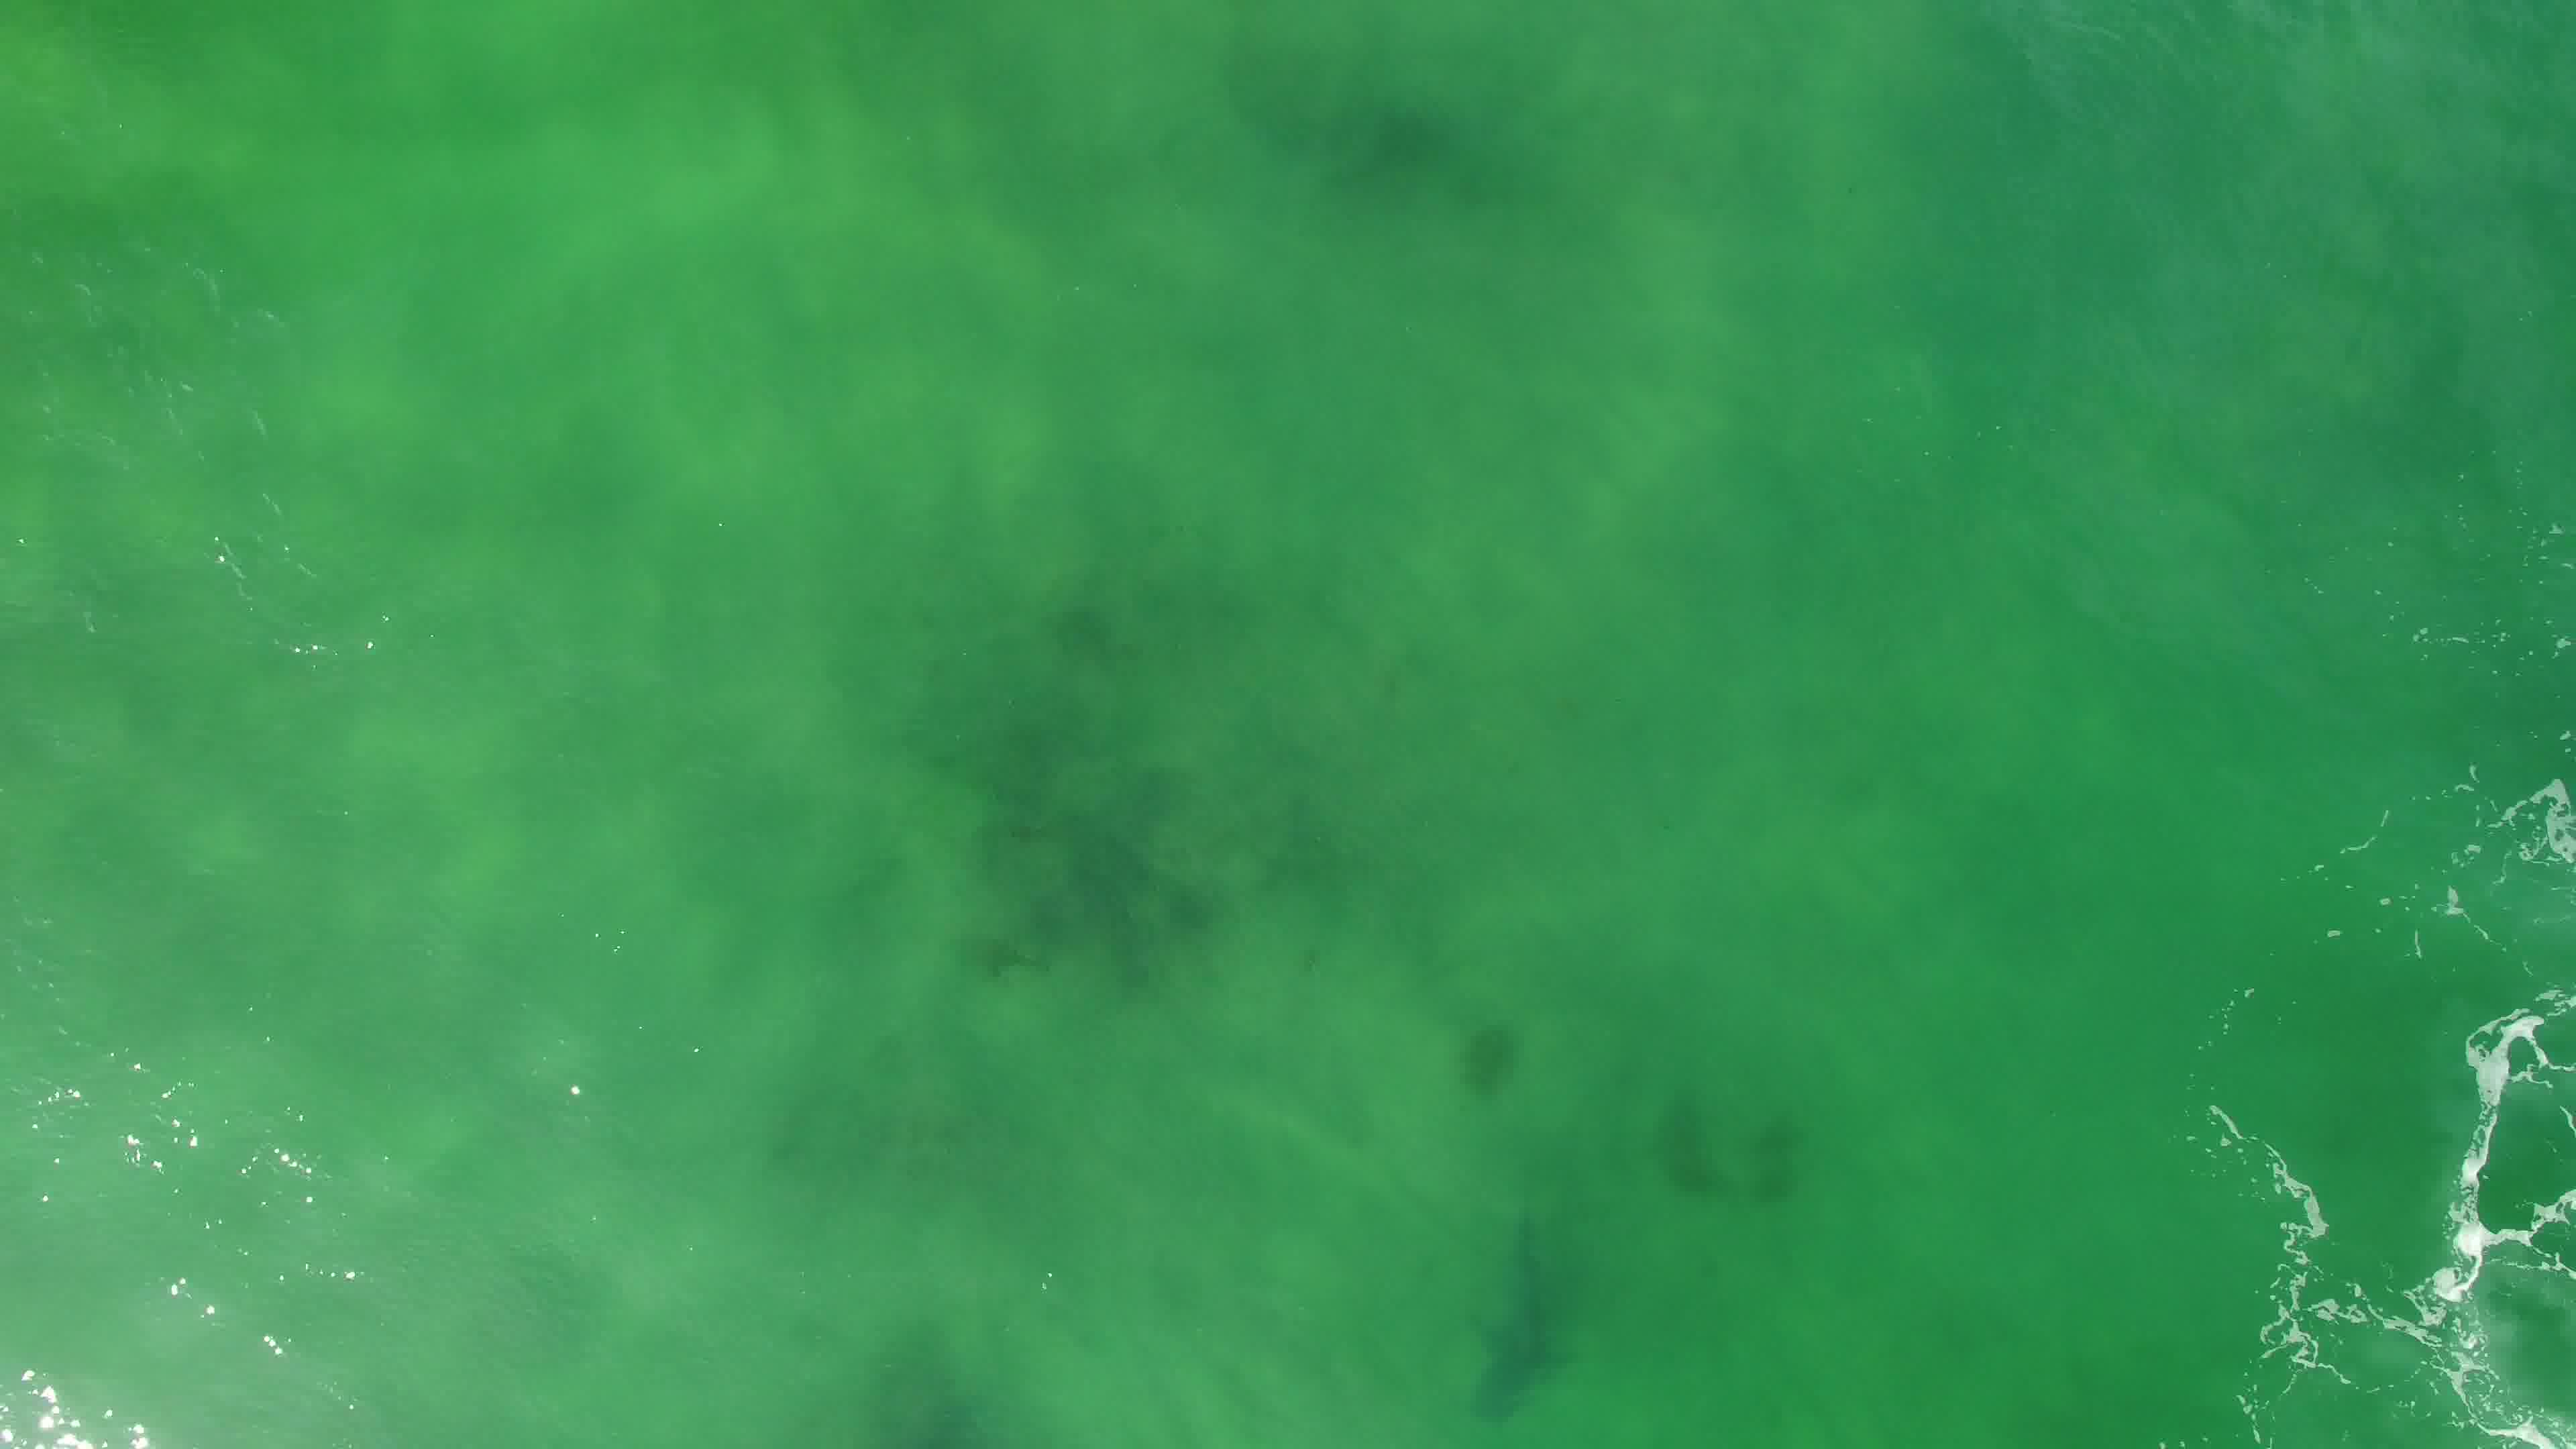shark: (1465, 1207, 1571, 1431)
